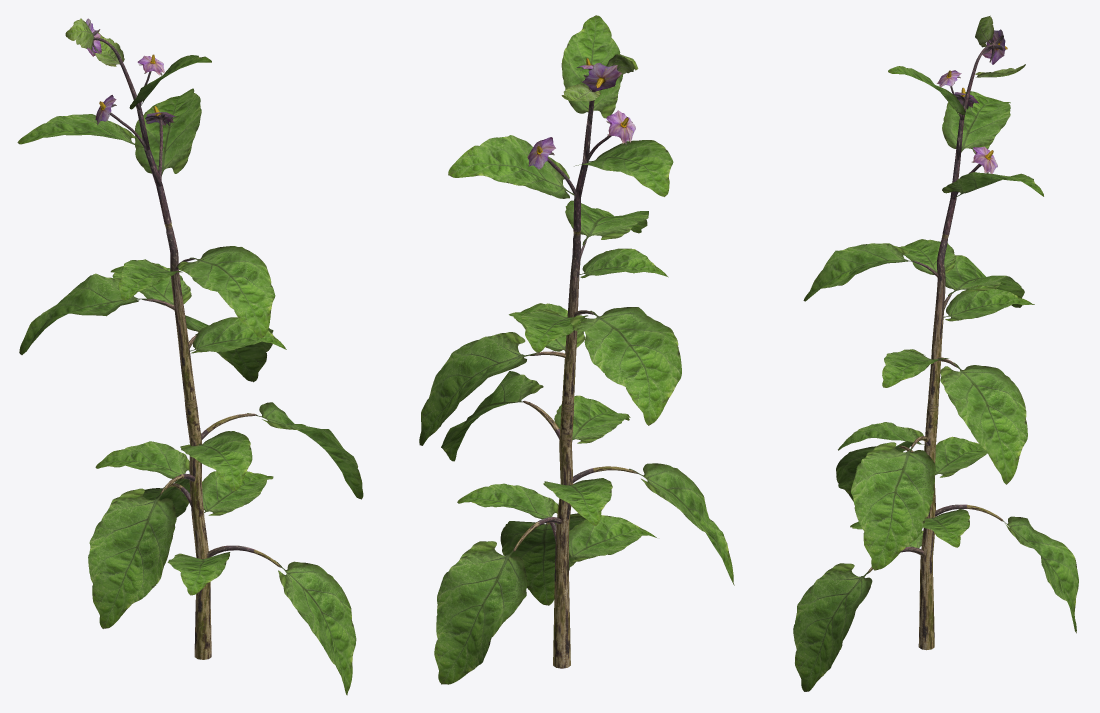
3 views of the same model, side by side, from view 1: azimuth 30°, elevation 25°; view 2: azimuth 150°, elevation 25°; view 3: azimuth 270°, elevation 25° (orthographic). The views are drawn at different scales.
Parts seen in each view (by area): view 1: VG19_2; view 2: VG19_2; view 3: VG19_2.
Boxes of the visible parts, x1,y1,x2,y2 form: VG19_2: (17, 18, 363, 695); VG19_2: (419, 15, 734, 684); VG19_2: (793, 15, 1078, 691).
Bounding box in the file's own units: 0.2572 × 0.5462 × 0.254.
Materials: 8 (8 with a texture image).
